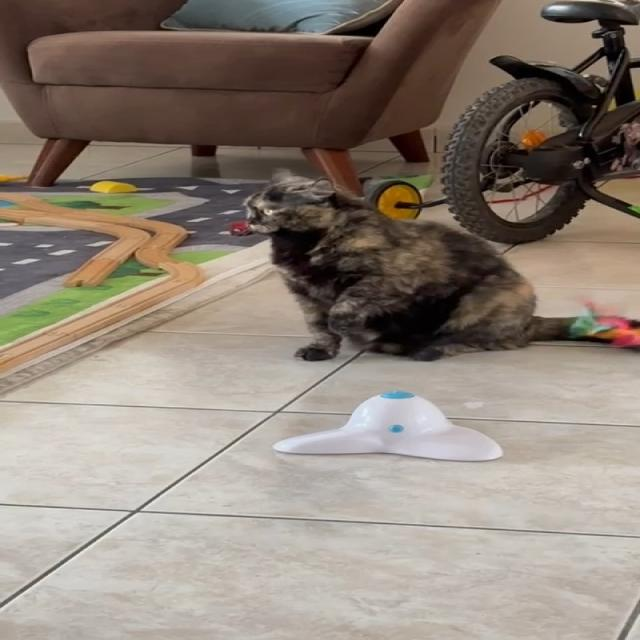authorized: (240, 169, 635, 362)
